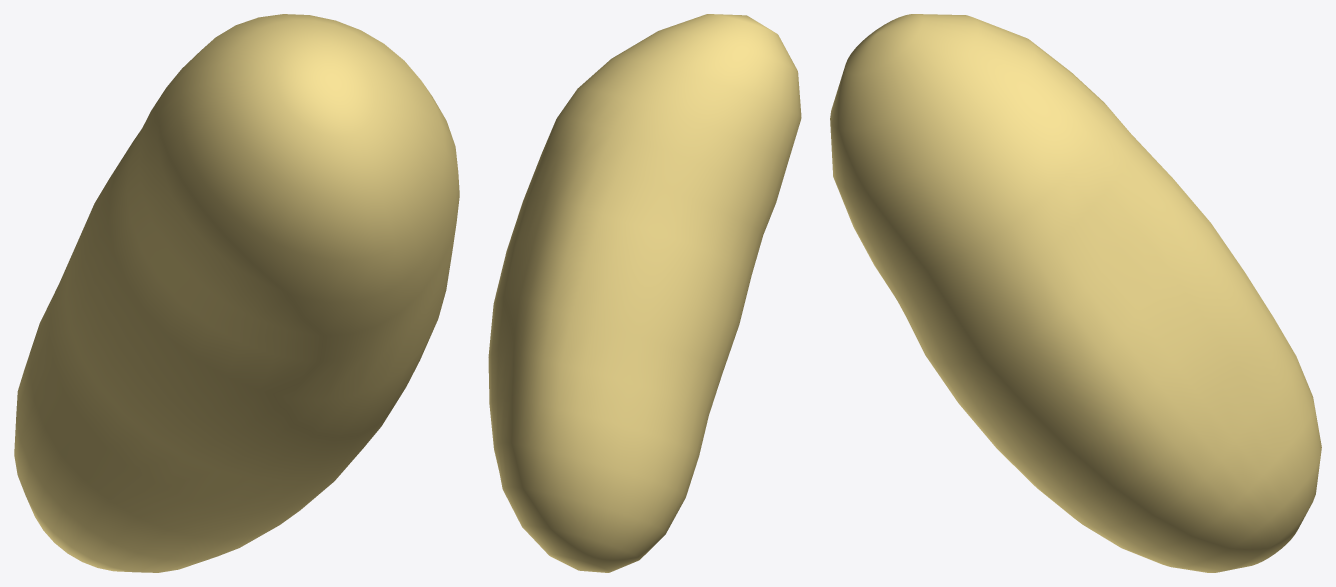
3 views of the same model, side by side, from view 1: azimuth 30°, elevation 25°; view 2: azimuth 150°, elevation 25°; view 3: azimuth 270°, elevation 25° (orthographic). The views are drawn at different scales.
Parts seen in each view (by area): view 1: ZA_3378979397c254ae; view 2: ZA_3378979397c254ae; view 3: ZA_3378979397c254ae.
Part boxes in pixels (left/top/right/bottom): ZA_3378979397c254ae: left=14, top=14, right=459, bottom=572; ZA_3378979397c254ae: left=488, top=14, right=801, bottom=572; ZA_3378979397c254ae: left=830, top=14, right=1321, bottom=572.
Bounding box in the file's own units: 0.00673 × 0.0134 × 0.011.
